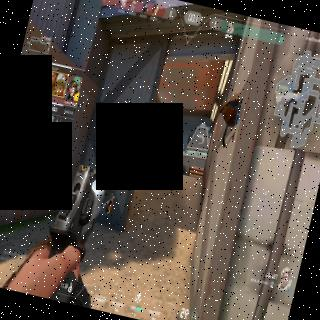ENEMY-BODY: (154, 158, 159, 168)
ENEMY-HEAD: (157, 158, 158, 160)
